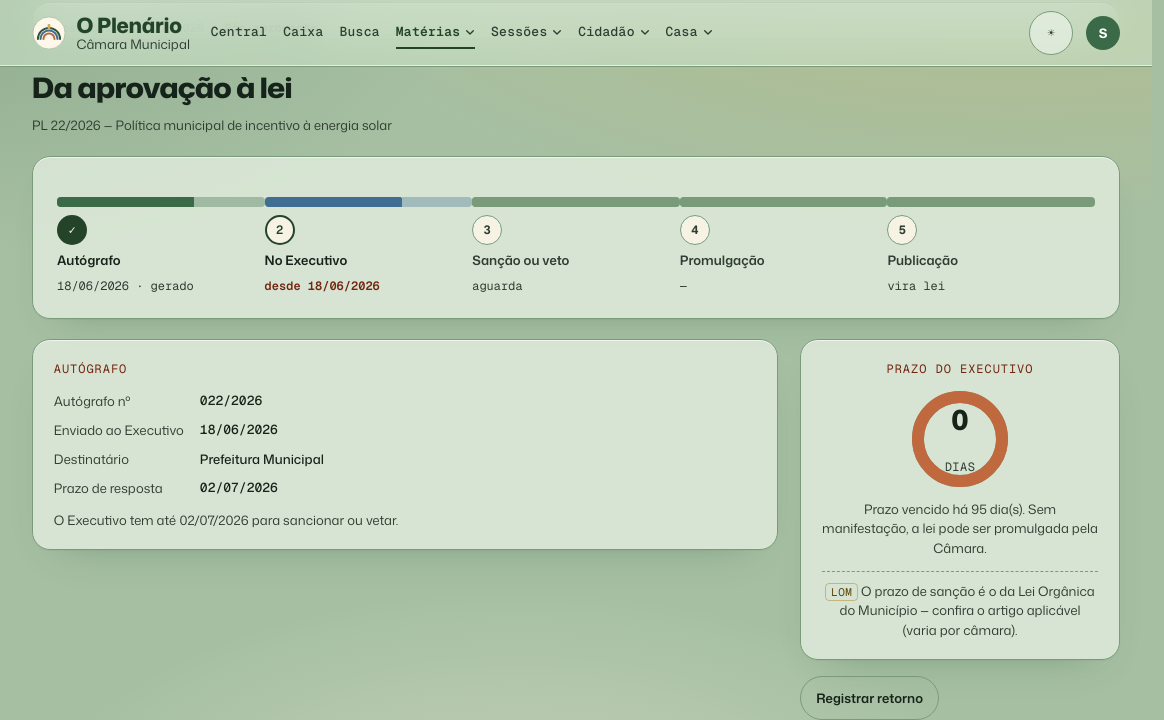
Scenario: ConteudoPosAprovacao › registrar retorno 'sancionado' -> some o form/CTA e mostra o card de Desfecho
(page scrolled)
Click the button "Registrar retorno". click: x=870, y=698
box: 800,676 -> 939,719
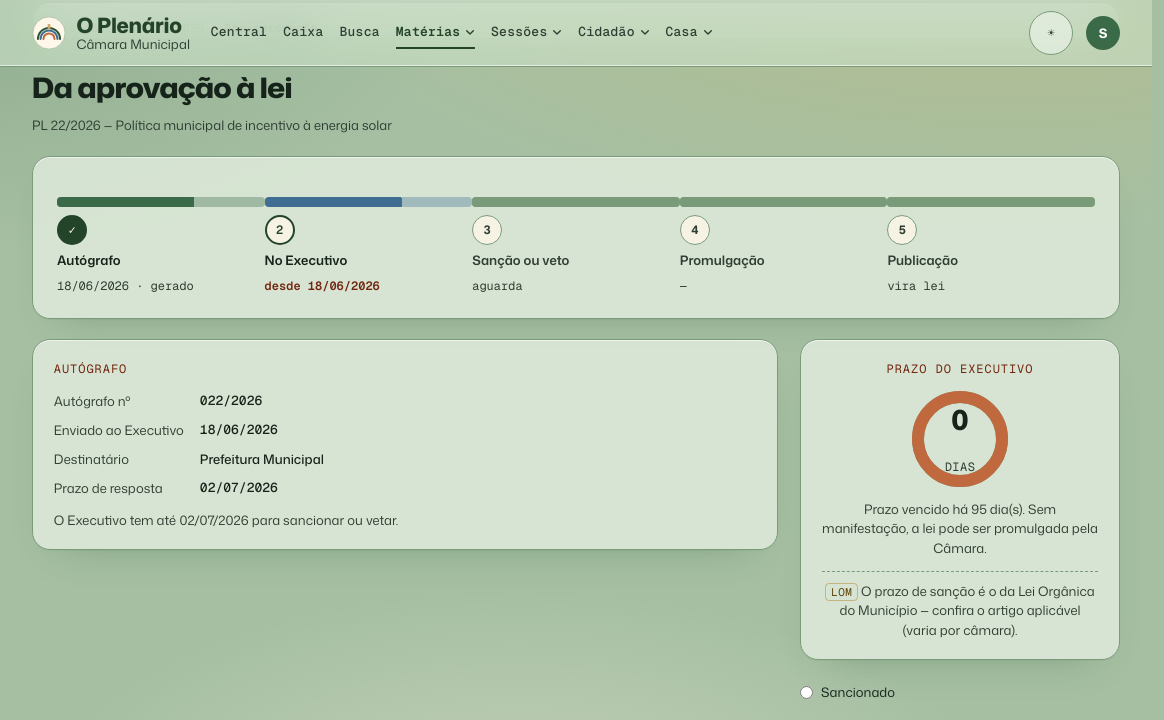
Click the radio button labelled "Sancionado". click: x=806, y=692
box: 800,686 -> 813,699
(page scrolled)
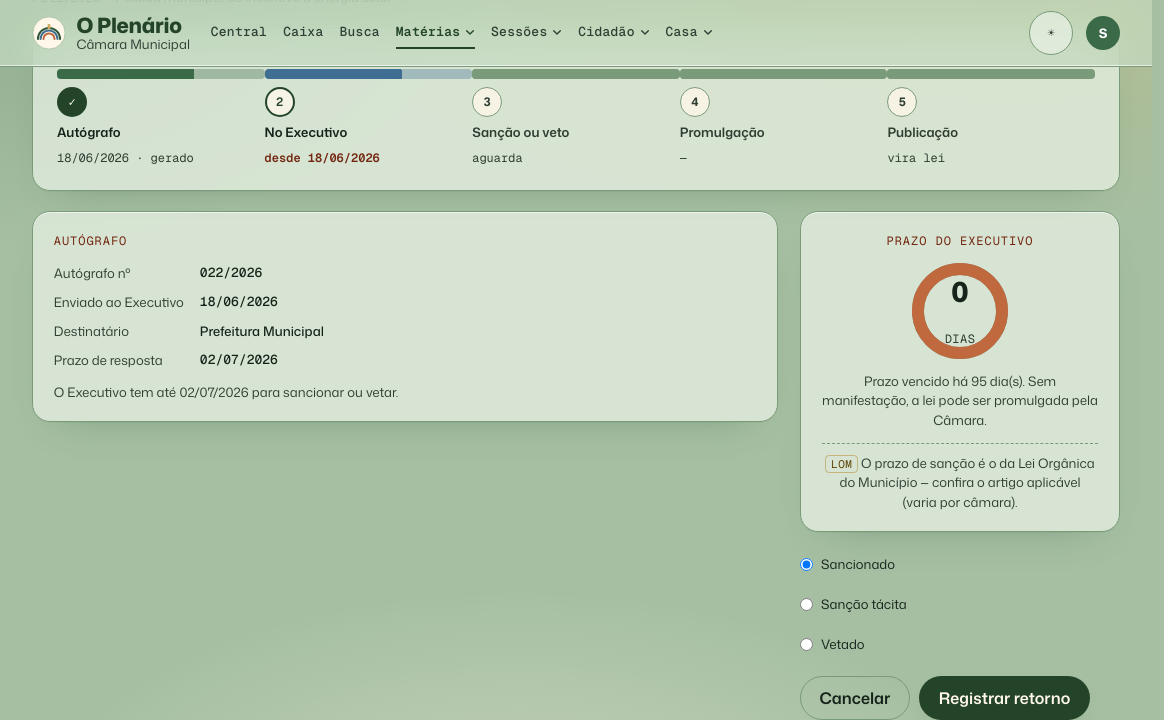
Click the button "Registrar retorno". click: x=1005, y=698
box: 919,676 -> 1090,719
(page scrolled)
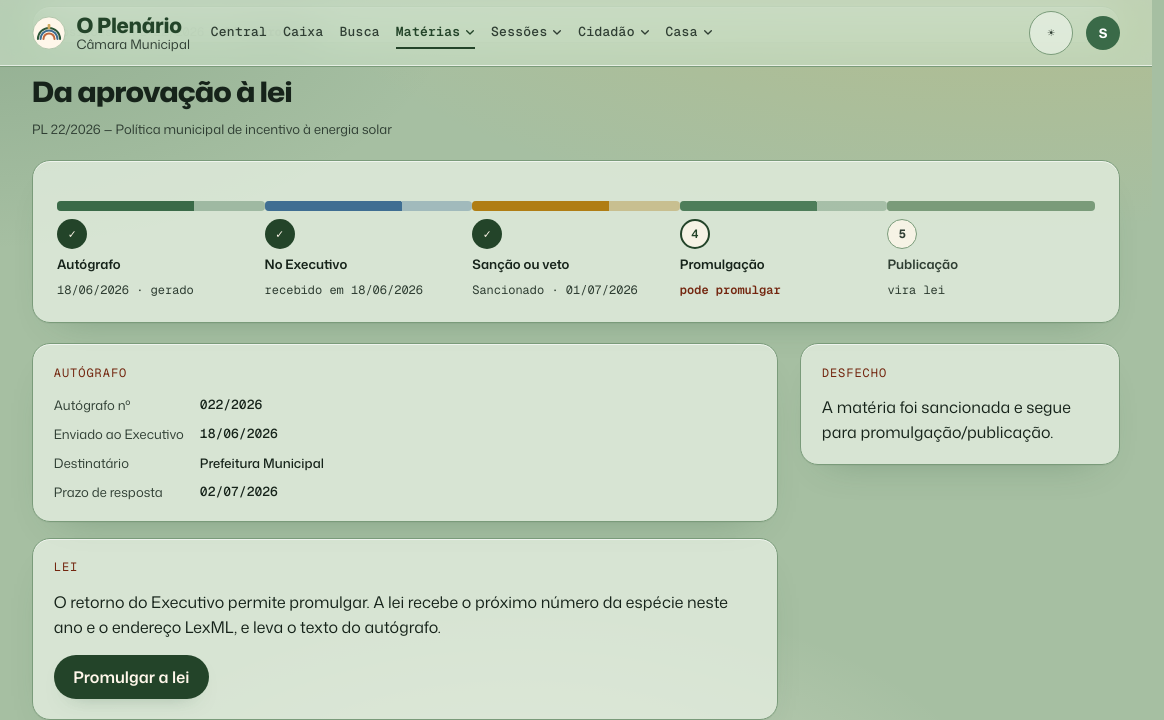
Now the heading "Desfecho" is shown, box 822,365 -> 887,381
Now the text "sancionada e segue para promulgação" is shown, box 822,396 -> 1071,443
Now the button "Registrar retorno" is gone
